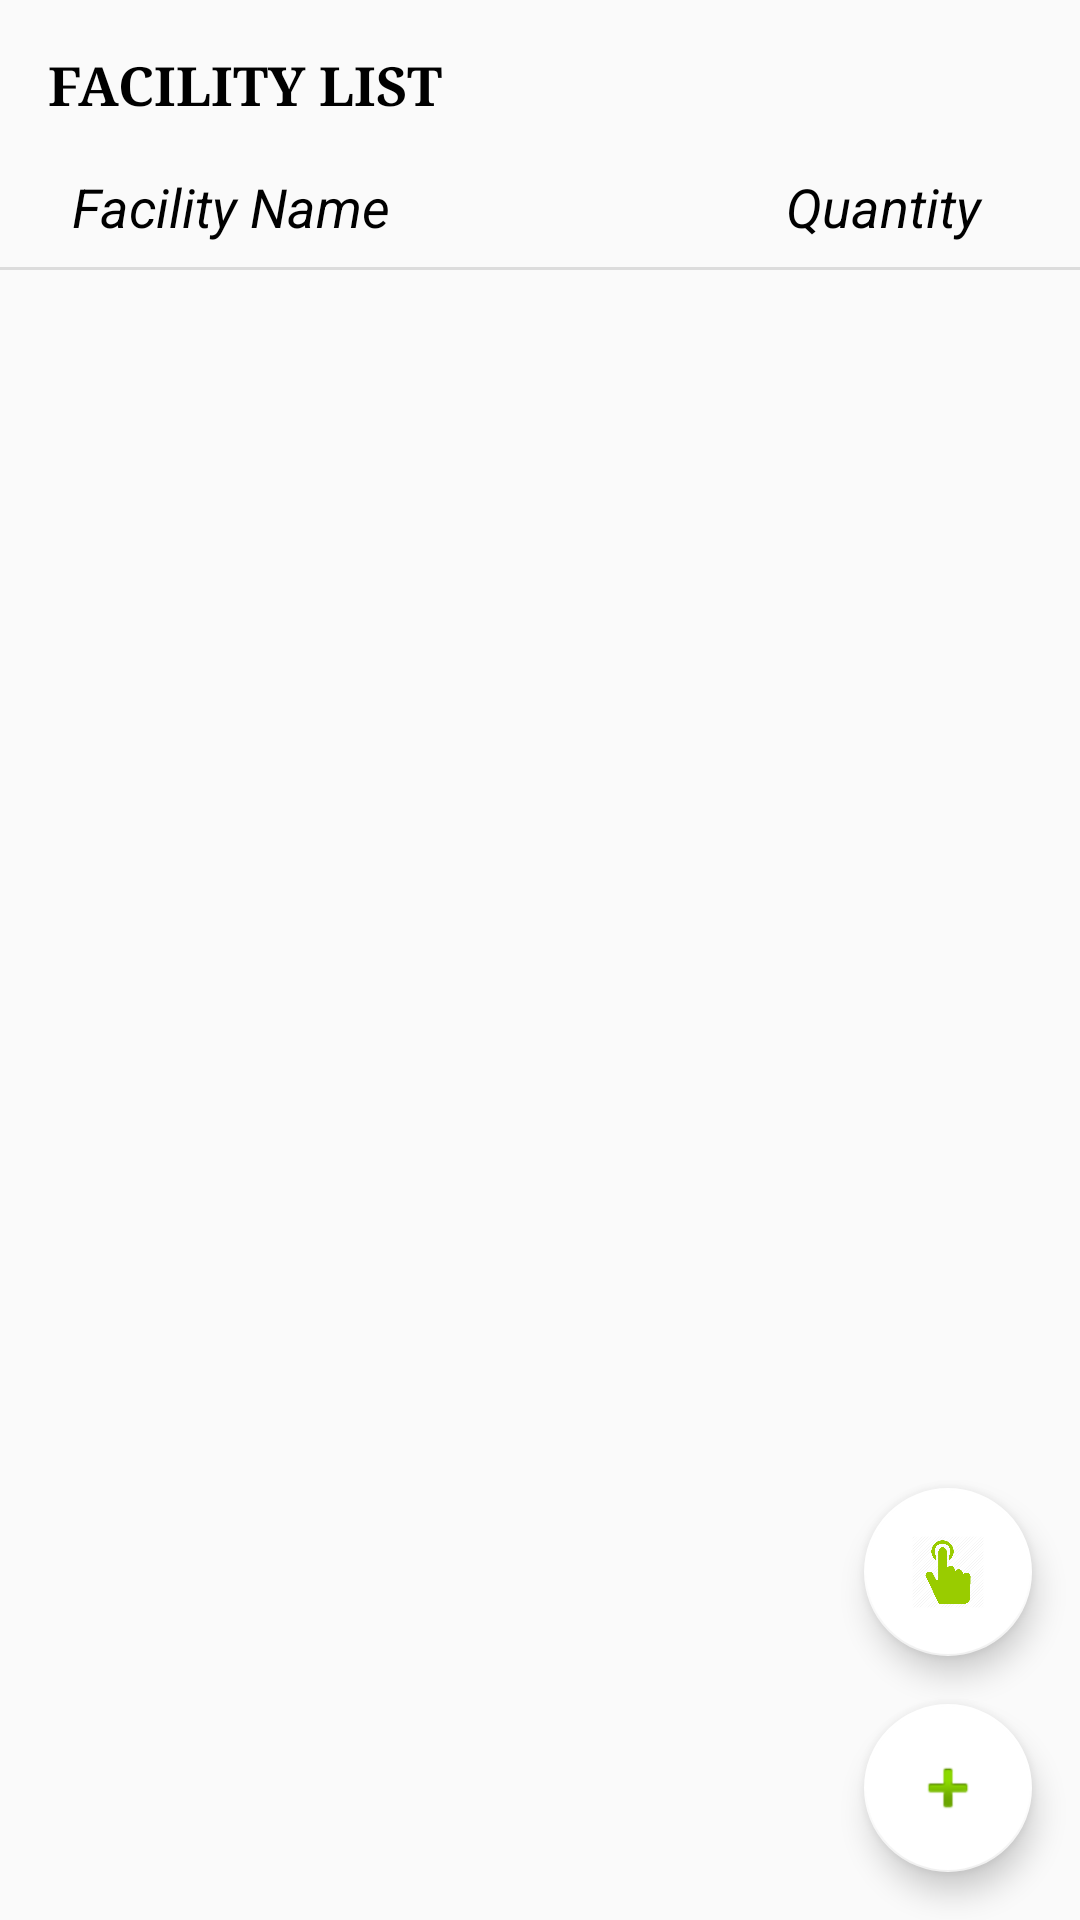

Named icons in this screenshot (1080w x 1920h) and their centers, point (x, y):
add: point (951, 1820)
